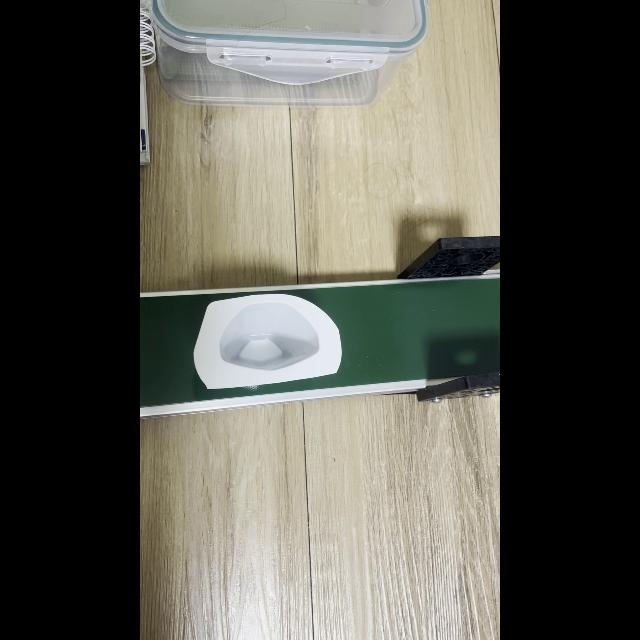clean: (194, 294, 342, 391)
